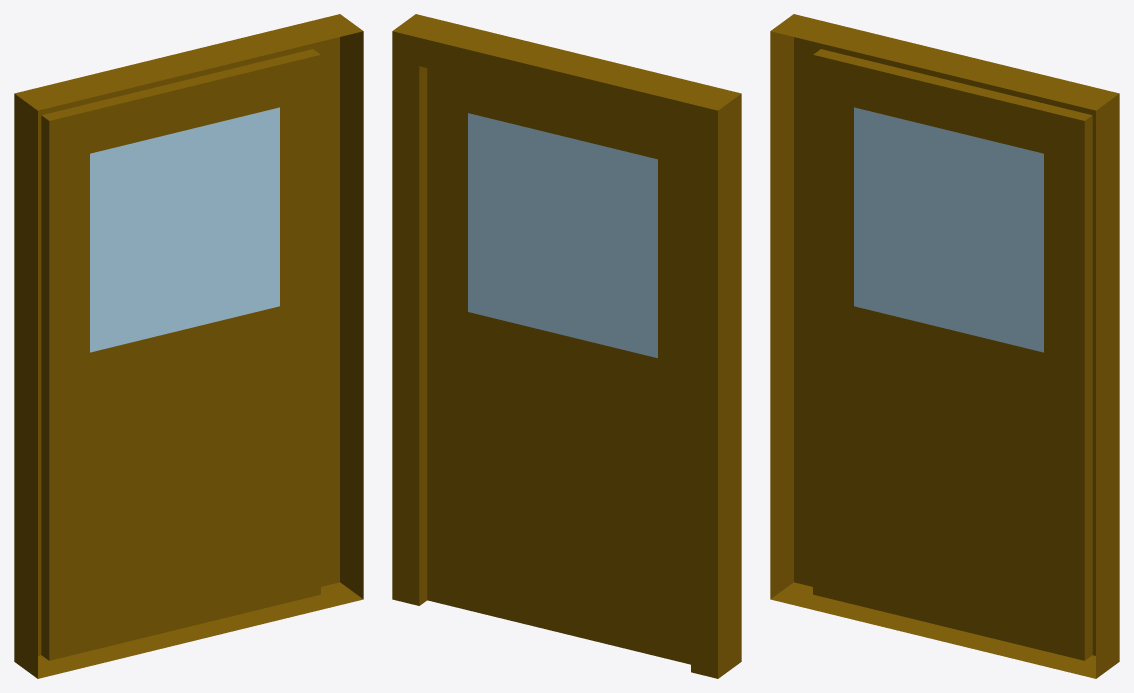
The model's file is TopWindowDoor.fbx.
The picture shows the model from 3 angles, left to right: view 1: azimuth 30°, elevation 25°; view 2: azimuth 150°, elevation 25°; view 3: azimuth 330°, elevation 25°; orthographic projection.
Visible parts, largest first — view 1: TopWindowDoor_LOD0; view 2: TopWindowDoor_LOD0; view 3: TopWindowDoor_LOD0.
Boxes of the visible parts, left/top/right/bottom form: TopWindowDoor_LOD0: left=14, top=14, right=363, bottom=678; TopWindowDoor_LOD0: left=392, top=14, right=741, bottom=678; TopWindowDoor_LOD0: left=770, top=14, right=1119, bottom=678.
Size of what is drawn, in the model's own units: 240 by 400 by 30.
